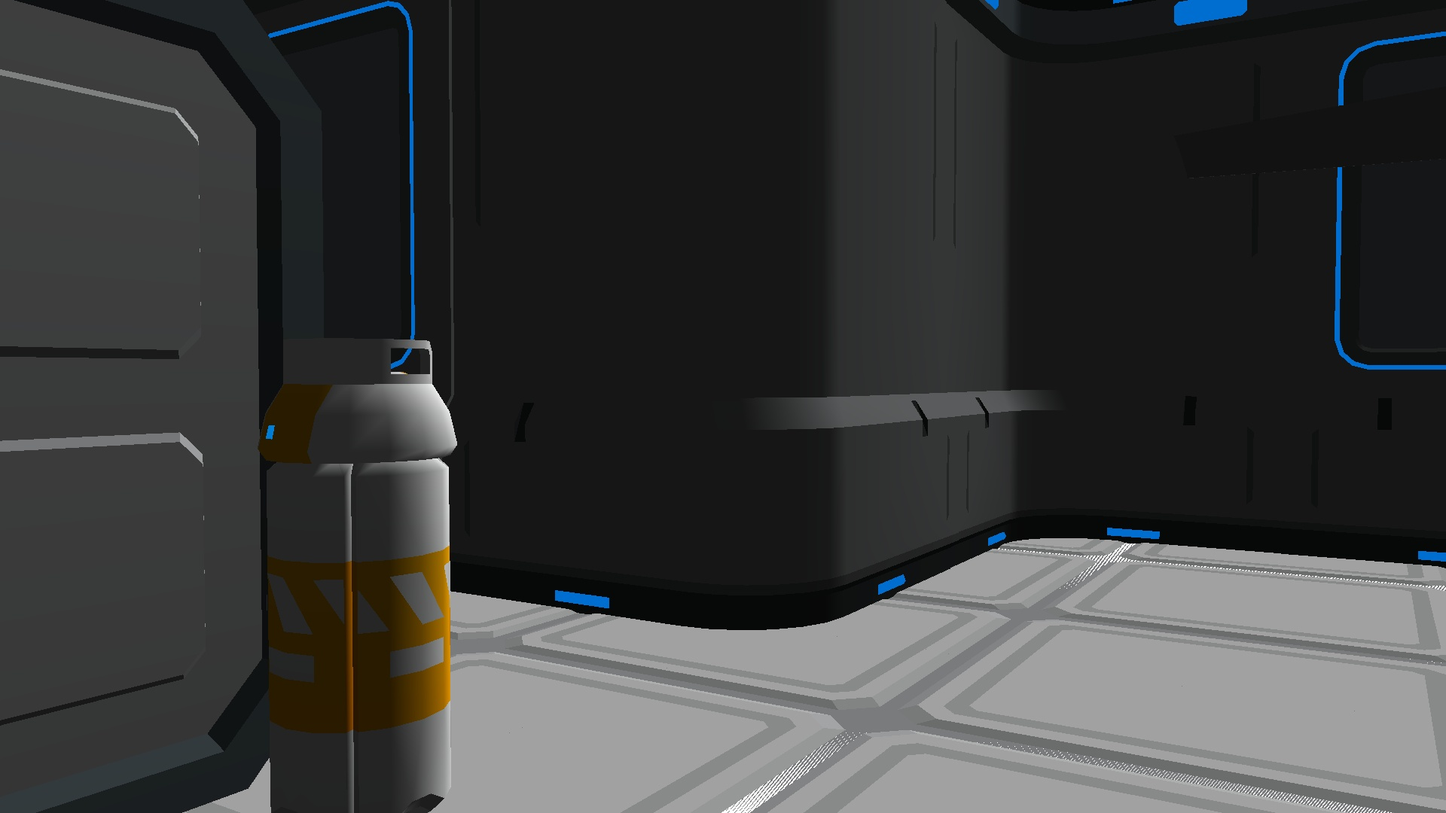yellow barrel: (257, 337, 458, 813)
